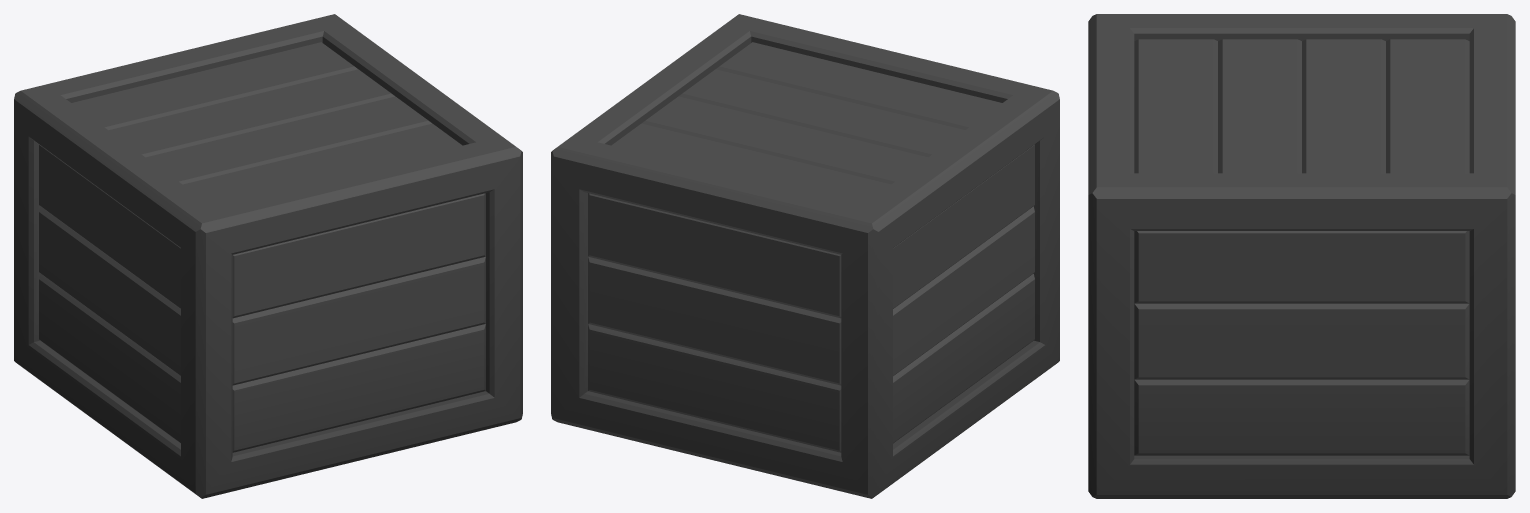
File: city_crate.glb
3 views of the same model, side by side, from view 1: azimuth 30°, elevation 25°; view 2: azimuth 150°, elevation 25°; view 3: azimuth 270°, elevation 25° (orthographic). The views are drawn at different scales.
Visible parts, largest first — view 1: city_crate; view 2: city_crate; view 3: city_crate.
Boxes of the visible parts, left/top/right/bottom form: city_crate: left=14, top=14, right=522, bottom=498; city_crate: left=551, top=14, right=1059, bottom=498; city_crate: left=1088, top=14, right=1515, bottom=498.
Bounding box in the file's own units: 1.02 × 0.82 × 1.02.
1 material, 1 textured.
